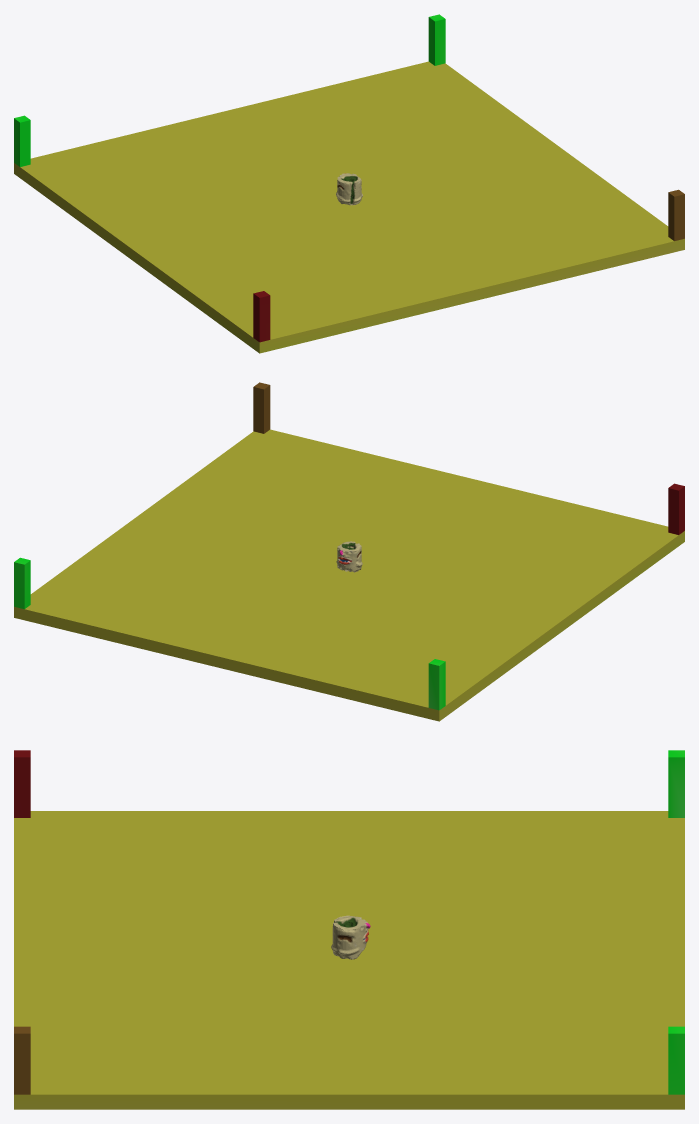
The model's file is SomeMap.glb.
3 views of the same model, one above another, from view 1: azimuth 30°, elevation 25°; view 2: azimuth 150°, elevation 25°; view 3: azimuth 270°, elevation 25° (orthographic). The views are drawn at different scales.
Visible parts, largest first — view 1: Cube-convcol, Cube.002-convcol, Cube.003-convcol, Cube.004-convcol, Cube.001-convcol, Cylinder; view 2: Cube-convcol, Cube.001-convcol, Cube.004-convcol, Cube.003-convcol, Cube.002-convcol, Cylinder; view 3: Cube-convcol, Cylinder, Cube.003-convcol, Cube.004-convcol, Cube.001-convcol, Cube.002-convcol.
Boxes of the visible parts, bbox=[...] form: Cube-convcol: bbox=[14, 61, 684, 353]; Cube.002-convcol: bbox=[253, 291, 270, 342]; Cube.003-convcol: bbox=[428, 14, 445, 65]; Cube.004-convcol: bbox=[668, 189, 684, 241]; Cube.001-convcol: bbox=[14, 115, 30, 166]; Cylinder: bbox=[336, 173, 362, 205]; Cube-convcol: bbox=[14, 429, 684, 721]; Cube.001-convcol: bbox=[428, 659, 445, 710]; Cube.004-convcol: bbox=[253, 382, 270, 433]; Cube.003-convcol: bbox=[14, 557, 30, 609]; Cube.002-convcol: bbox=[668, 483, 684, 534]; Cylinder: bbox=[336, 541, 362, 572]; Cube-convcol: bbox=[14, 811, 684, 1109]; Cylinder: bbox=[331, 915, 370, 959]; Cube.003-convcol: bbox=[668, 1026, 684, 1094]; Cube.004-convcol: bbox=[14, 1026, 30, 1094]; Cube.001-convcol: bbox=[668, 750, 684, 817]; Cube.002-convcol: bbox=[14, 750, 30, 817].
Size of what is drawn, in the model's own units: 40 by 5 by 40.
